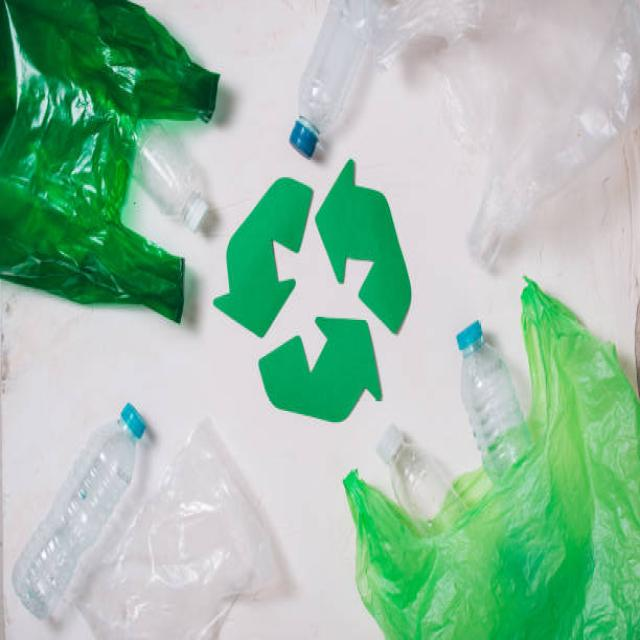plastic: (9, 11, 214, 340), (9, 392, 280, 634), (405, 337, 595, 607)
